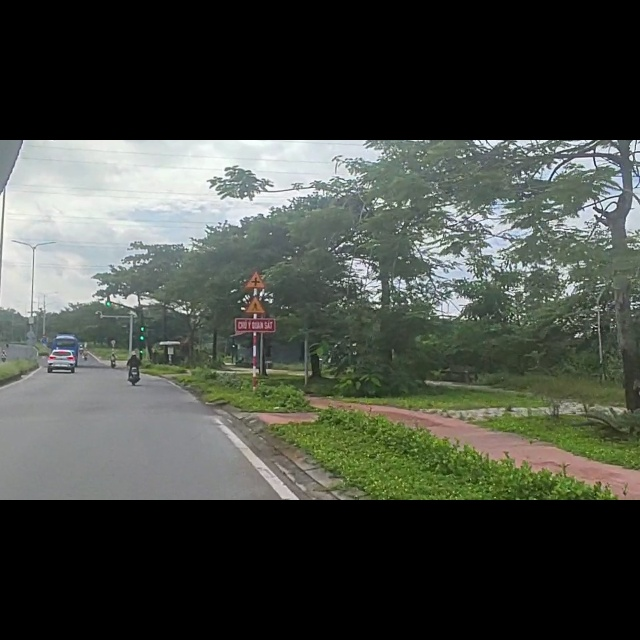bien_nguy_hiem: (243, 232, 266, 264), (244, 276, 267, 308)
